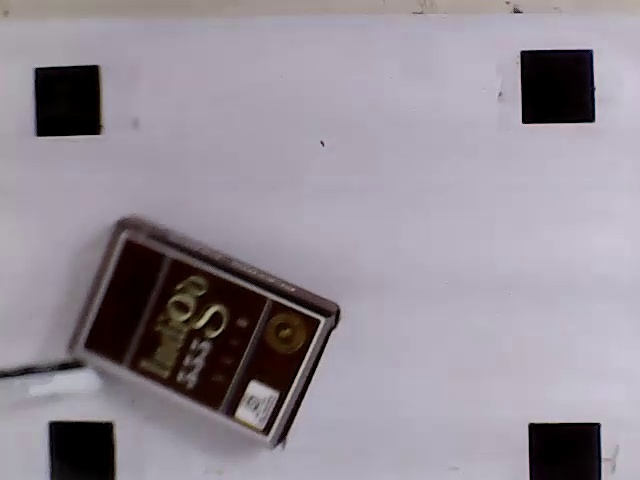BEX: (79, 235, 323, 441)
